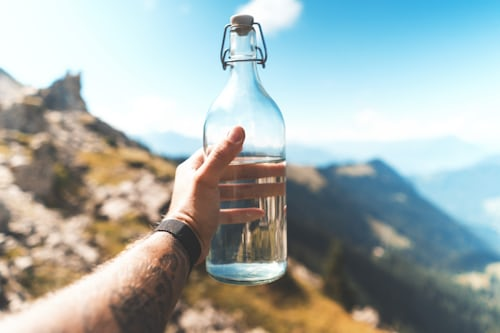Bottle: (190, 11, 294, 285)
